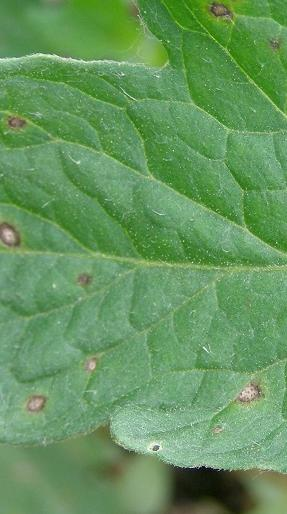Tomato leaf bacterial spot: (0, 0, 287, 493)
